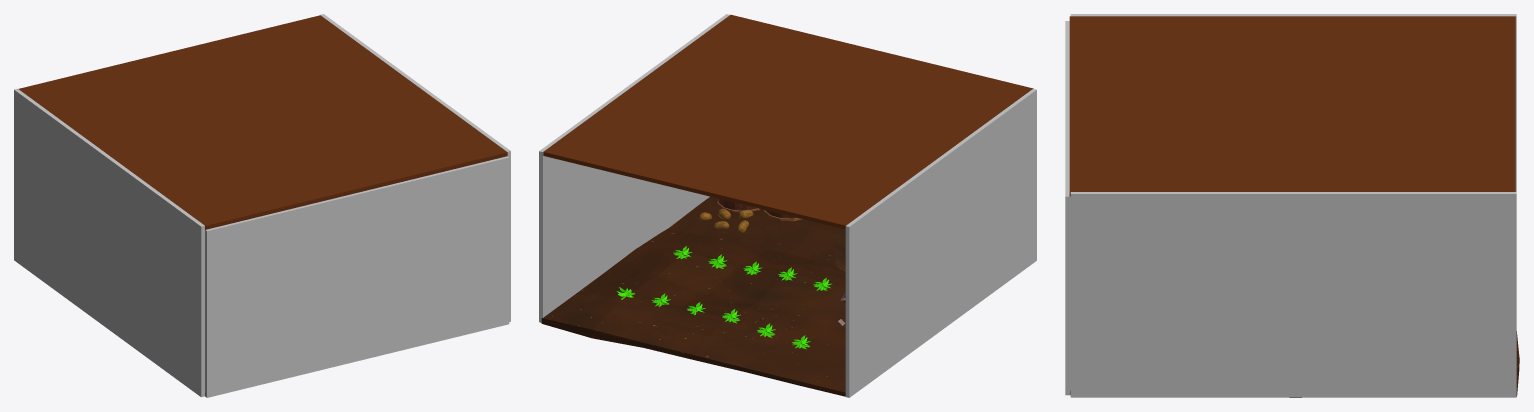
File: FarmRoom.fbx
The picture shows the model from 3 angles, left to right: view 1: azimuth 30°, elevation 25°; view 2: azimuth 150°, elevation 25°; view 3: azimuth 270°, elevation 25°; orthographic projection. The views are drawn at different scales.
Visible parts, largest first — view 1: DirtyCeiling.002, SideWall1.009, SideWall1.002, SideWall1.008; view 2: DirtyCeiling.002, DirtyGround.002, SideWall1.002, SideWall1.008, PotatoPlantPart.084, Distiller.004; view 3: SideWall1.008, DirtyCeiling.002, SideWall1.009, SideWall1.002.
Part boxes in pixels (left/top/right/bottom): DirtyCeiling.002: left=18, top=15, right=507, bottom=229; SideWall1.009: left=205, top=156, right=509, bottom=397; SideWall1.002: left=14, top=88, right=204, bottom=397; SideWall1.008: left=320, top=14, right=510, bottom=321; DirtyCeiling.002: left=543, top=14, right=1033, bottom=229; DirtyGround.002: left=541, top=196, right=845, bottom=396; SideWall1.002: left=845, top=89, right=1036, bottom=397; SideWall1.008: left=539, top=14, right=729, bottom=322; PotatoPlantPart.084: left=617, top=246, right=832, bottom=349; Distiller.004: left=833, top=227, right=845, bottom=271; SideWall1.008: left=1070, top=192, right=1516, bottom=397; DirtyCeiling.002: left=1069, top=16, right=1515, bottom=196; SideWall1.009: left=1065, top=21, right=1070, bottom=395; SideWall1.002: left=1070, top=14, right=1516, bottom=191.
Size of the model in its own units: 517 by 278 by 551.
